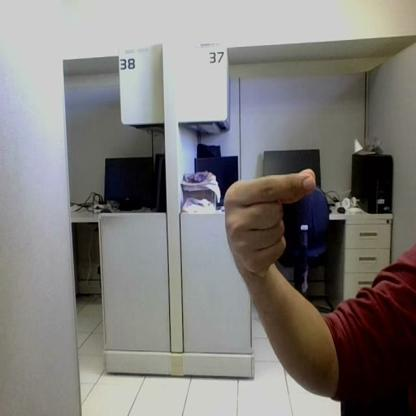G: (225, 170, 315, 274)
